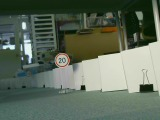speed_20: (54, 52, 70, 68)
